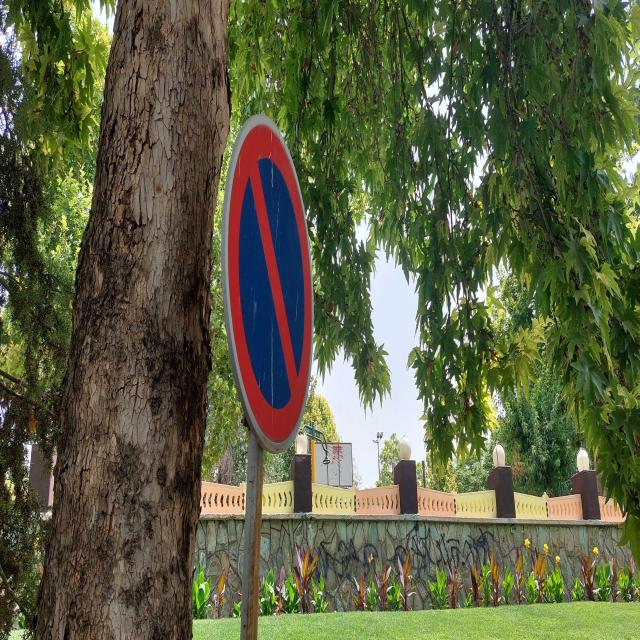forb_stopping: (224, 114, 313, 456)
